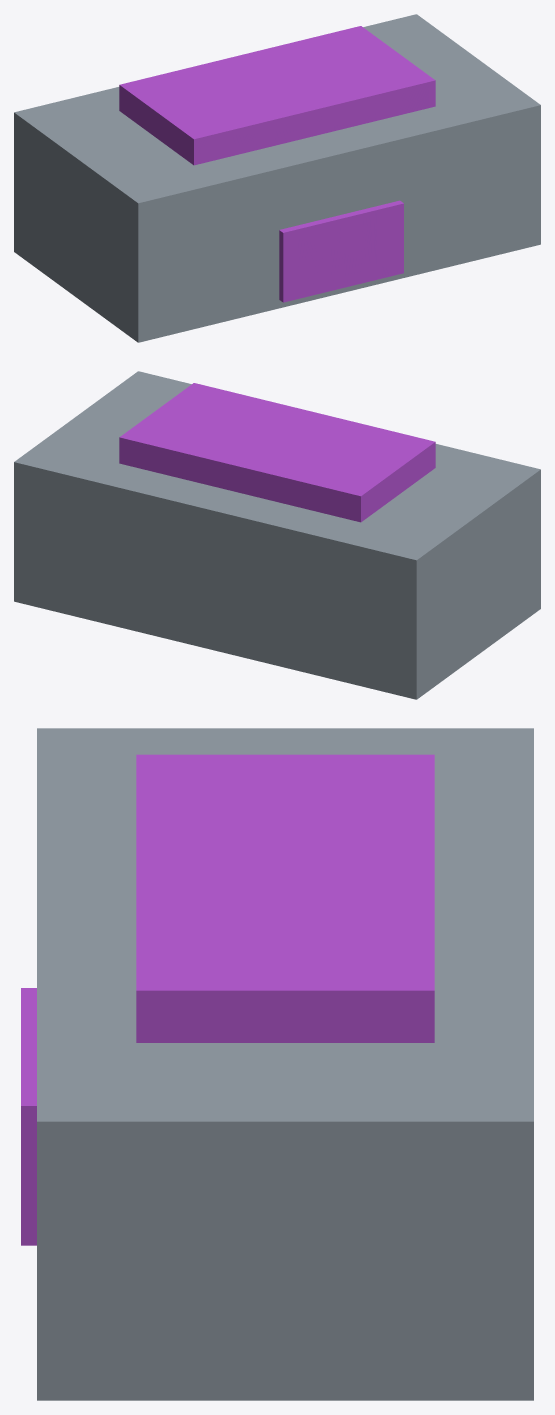
Rendered from SM_Chronolegion_CH_DeltaDelayArtillery_Blockout.fbx.
3 views of the same model, one above another, from view 1: azimuth 30°, elevation 25°; view 2: azimuth 150°, elevation 25°; view 3: azimuth 270°, elevation 25° (orthographic). The views are drawn at different scales.
Parts seen in each view (by area): view 1: MainBuilding, RoofStructure, EntranceGate; view 2: MainBuilding, RoofStructure; view 3: MainBuilding, RoofStructure, EntranceGate.
Boxes of the visible parts, x1,y1,x2,y2 form: MainBuilding: (14,14,540,342); RoofStructure: (119,26,435,165); EntranceGate: (279,200,403,302); MainBuilding: (14,371,540,699); RoofStructure: (119,383,435,522); MainBuilding: (37,728,533,1400); RoofStructure: (136,754,434,1042); EntranceGate: (21,988,36,1245).
Bounding box in the file's own units: 580 × 228 × 320.
